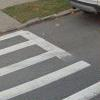Crosswalk: (1, 31, 91, 99)
